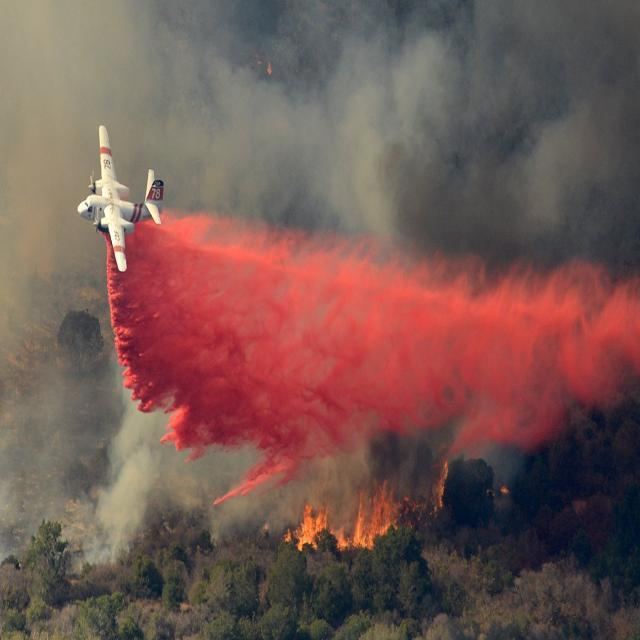Fire: (284, 463, 458, 555)
Smoke: (55, 412, 193, 567)
